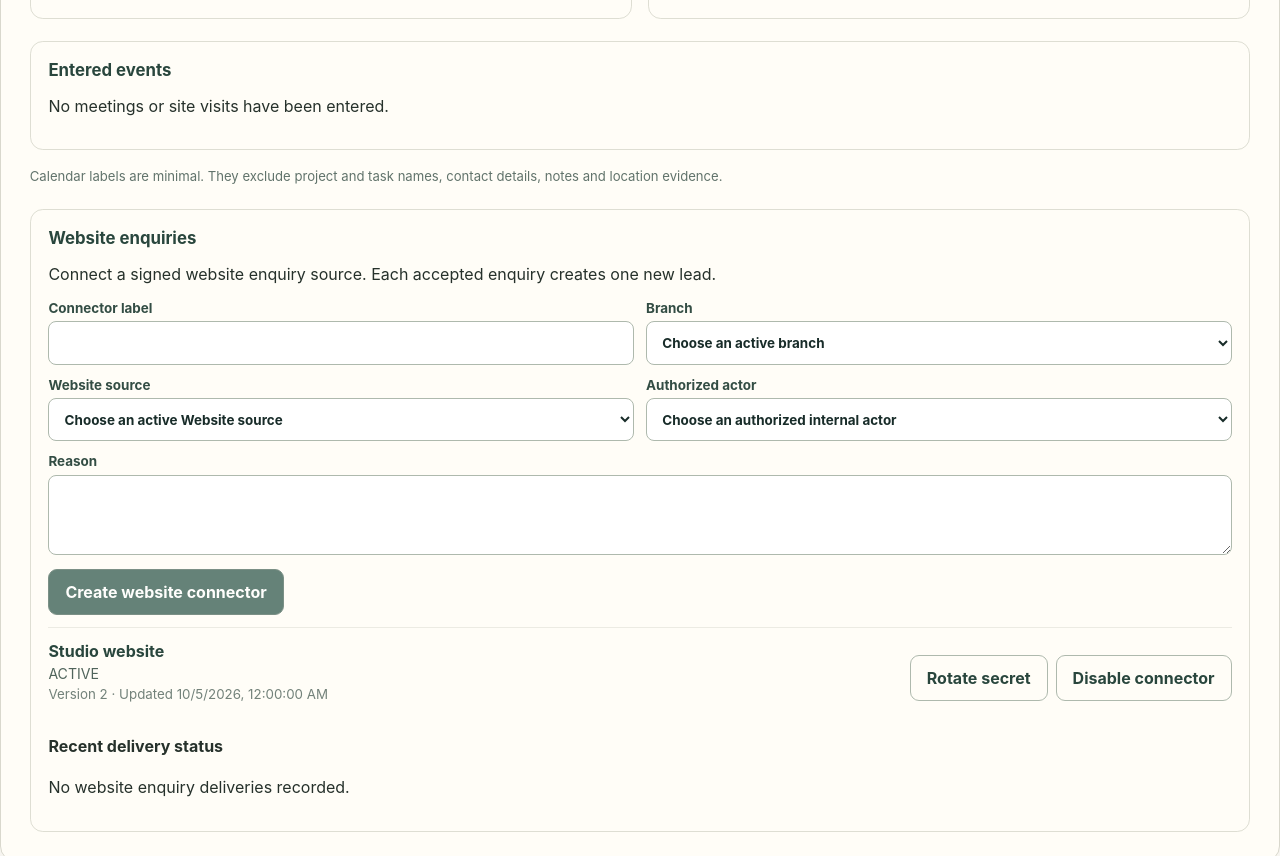
Test: calendar integrations › explains that a replayed rotation cannot reveal the previous one-time secret
(page scrolled)
Step 1. Click the button "Rotate secret" → [979, 678], box [910,656,1048,702]
(page scrolled)
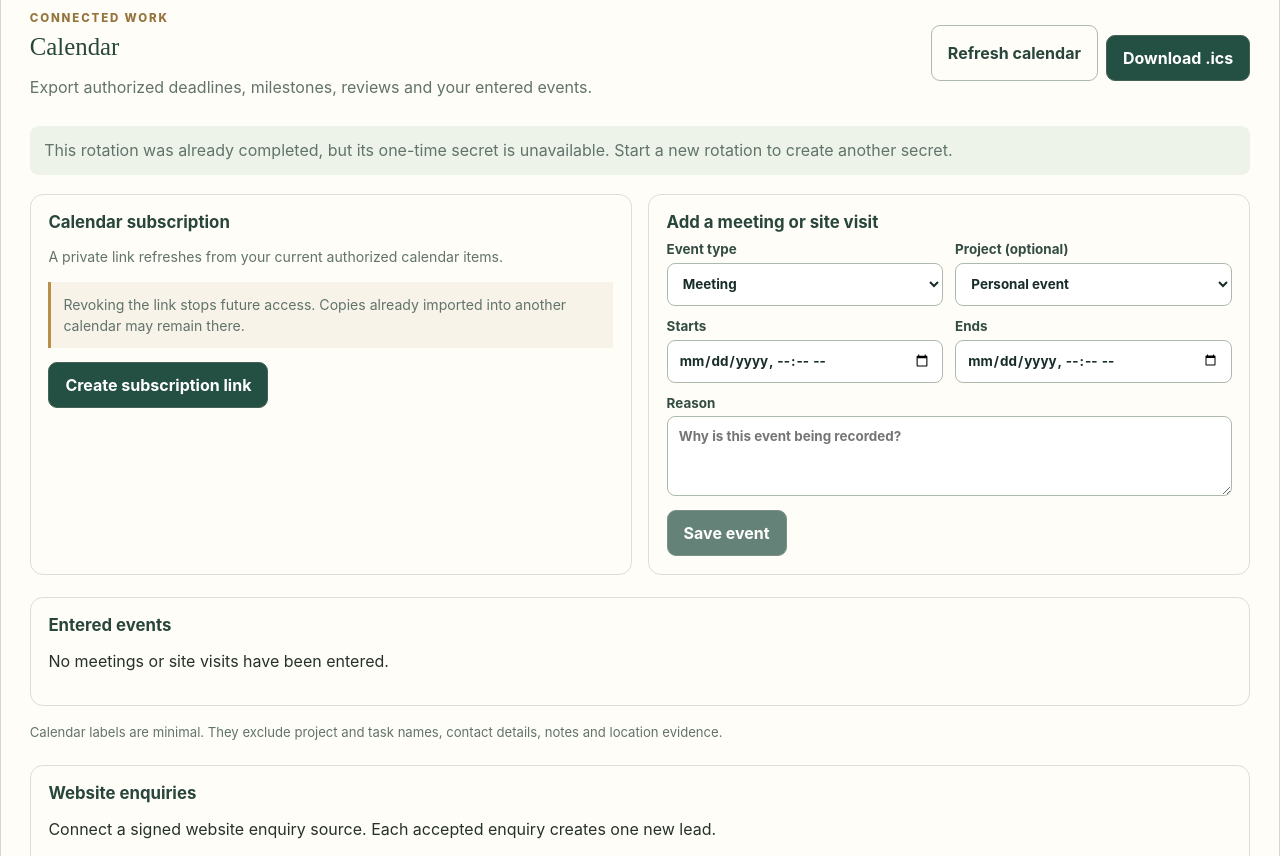
Result: the text "rotation was already completed, but its one-time secret is unavailable" is shown at [44,140,952,160]
